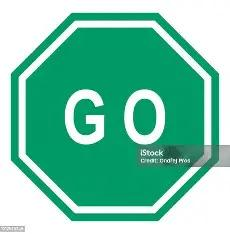Go: (11, 13, 218, 220)
